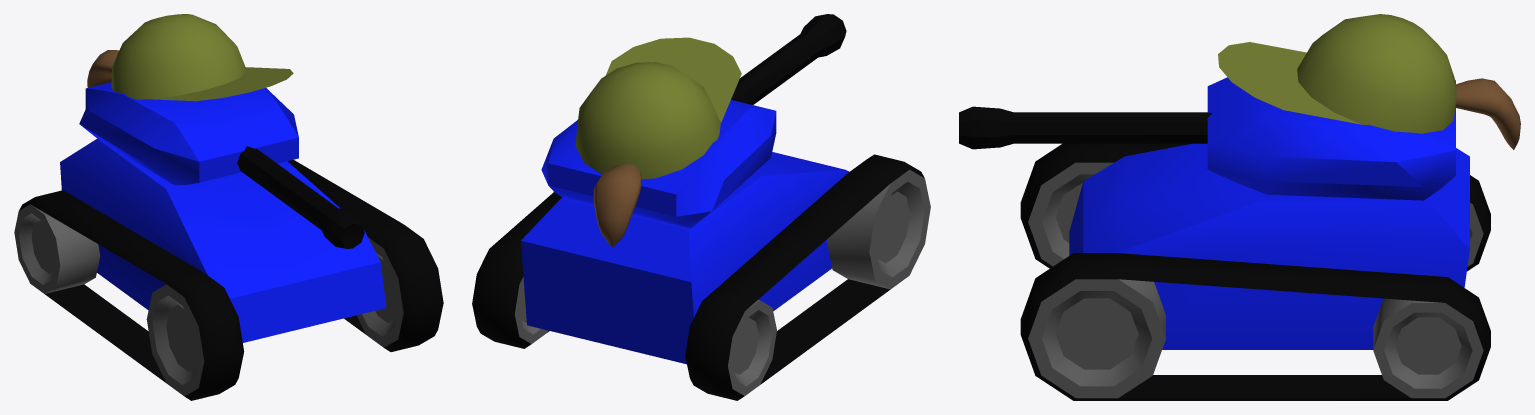
The model's file is Cthulu.fbx.
3 renders of one model, left to right at view 1: azimuth 30°, elevation 25°; view 2: azimuth 150°, elevation 25°; view 3: azimuth 270°, elevation 25°, orthographic. The views are drawn at different scales.
Parts seen in each view (by area): view 1: Chassis, Chain, Head, Kugel, Front, Back, Cannon, Extrudieren, Loft; view 2: Chassis, Chain, Kugel, Head, Front, Extrudieren, Back, Cannon, Loft; view 3: Chassis, Chain, Head, Front, Kugel, Back, Cannon, Extrudieren, Loft.
Part boxes in pixels (x1,y1,x2,y2): Chassis: (60, 138, 386, 342); Chain: (19, 160, 443, 400); Head: (79, 82, 298, 185); Kugel: (111, 14, 246, 99); Front: (146, 237, 403, 396); Back: (14, 204, 100, 293); Cannon: (237, 146, 364, 248); Extrudieren: (151, 67, 293, 101); Loft: (87, 50, 119, 87); Chassis: (521, 152, 849, 364); Chain: (472, 154, 924, 400); Kugel: (575, 62, 720, 179); Head: (541, 100, 776, 228); Front: (826, 169, 930, 289); Extrudieren: (605, 37, 741, 122); Back: (514, 277, 776, 395); Cannon: (731, 14, 846, 104); Loft: (593, 164, 641, 247); Chassis: (1069, 143, 1469, 349); Chain: (1020, 143, 1490, 400); Head: (1207, 72, 1455, 200); Front: (1028, 162, 1165, 398); Kugel: (1297, 14, 1456, 133); Back: (1373, 202, 1483, 398); Cannon: (959, 106, 1212, 149); Extrudieren: (1218, 42, 1361, 124); Loft: (1455, 78, 1520, 149).
Size of the model in its own units: 240 by 250 by 407.
